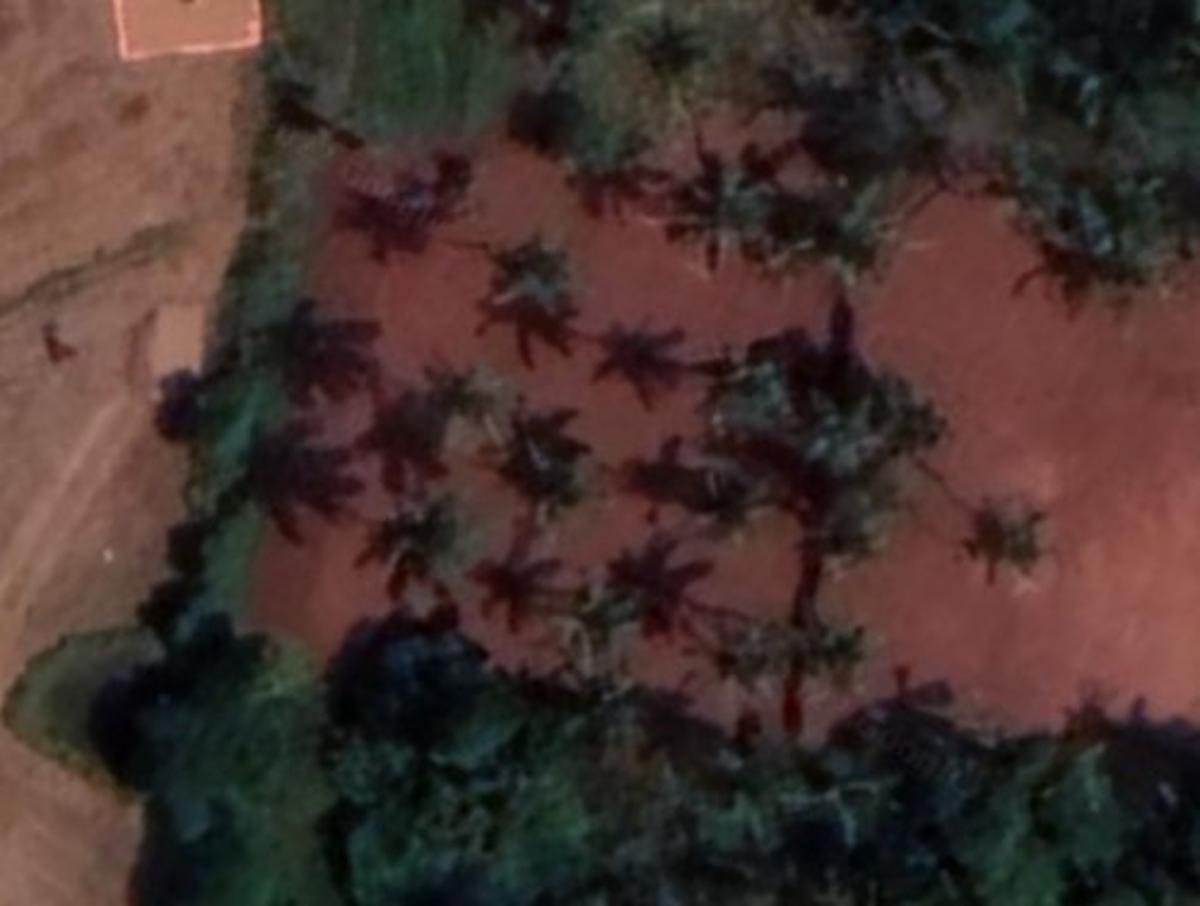coconut: (662, 154, 771, 289), (802, 185, 913, 301), (404, 371, 520, 474), (551, 573, 657, 679), (387, 486, 501, 583), (703, 354, 800, 450), (980, 489, 1079, 580), (493, 243, 590, 332), (698, 462, 792, 546), (807, 380, 886, 477), (518, 440, 600, 522)
